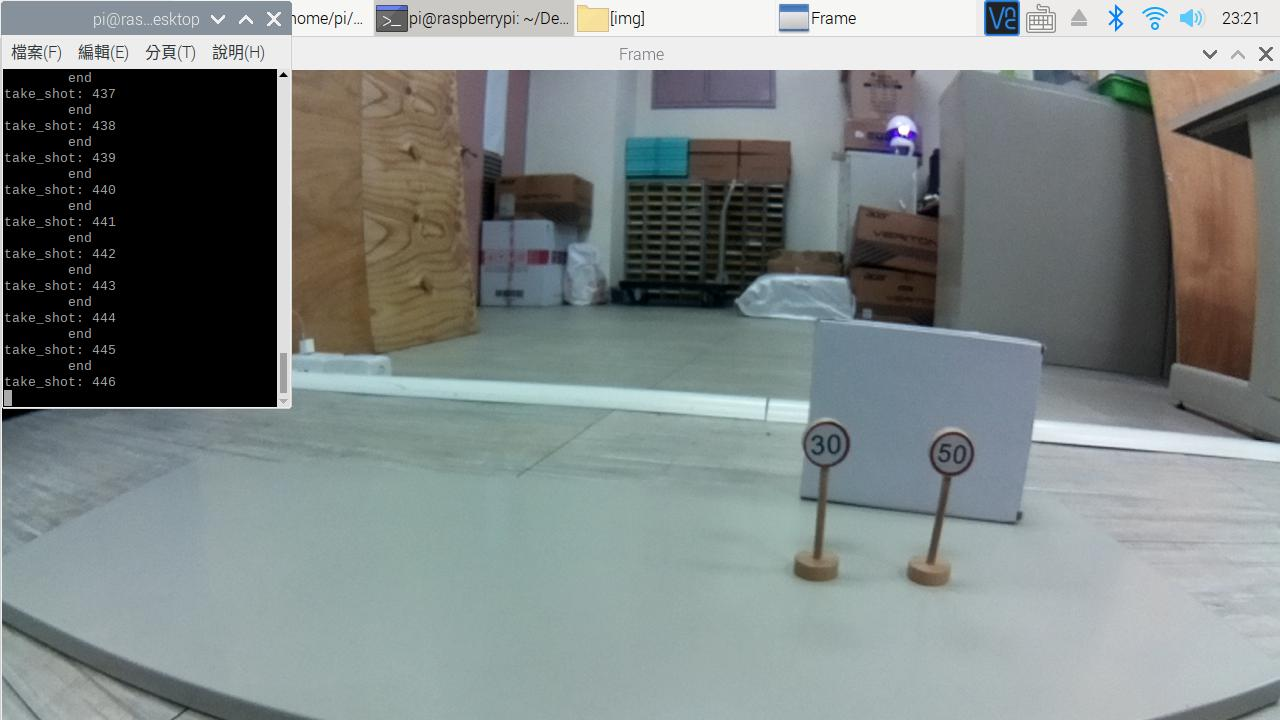Speed30: (787, 403, 864, 481)
Speed50: (921, 420, 983, 486)
